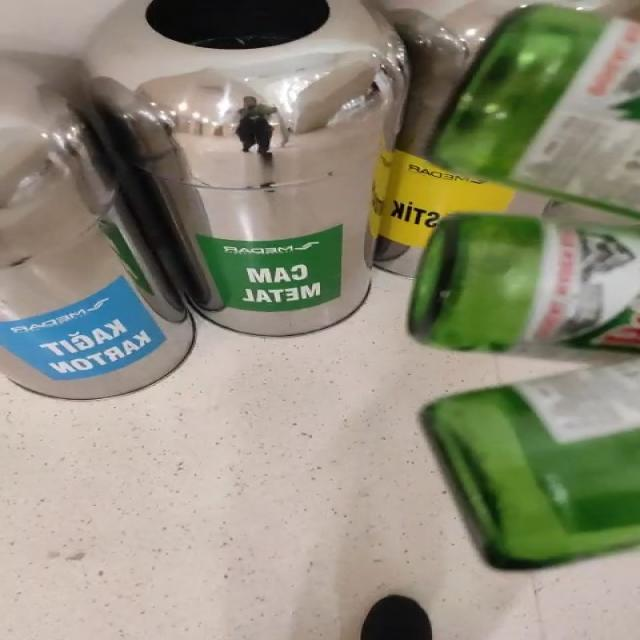bin: (85, 0, 408, 336)
glass: (424, 360, 639, 569), (431, 4, 640, 215), (409, 213, 640, 360)
